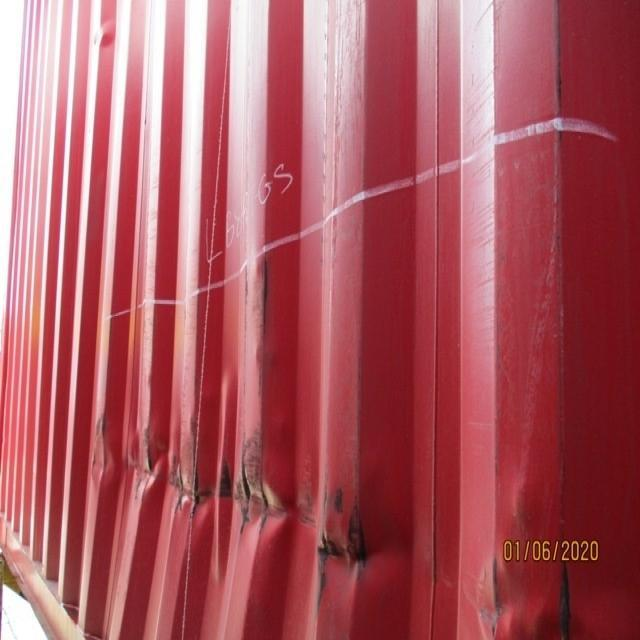Deframe_or_Dent: (89, 423, 422, 600), (471, 532, 580, 640), (92, 20, 122, 58)
